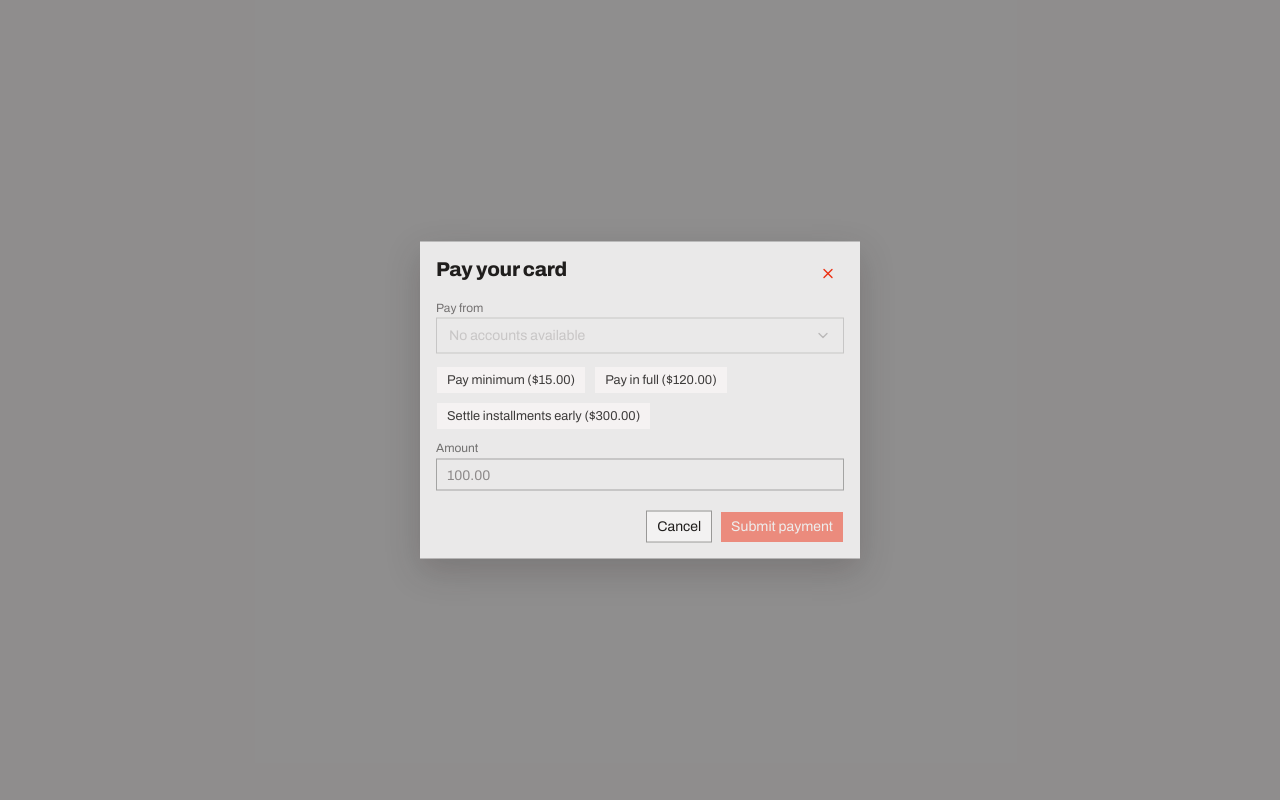
PayDialog › shows quick-select presets and fills the amount field when clicked (credit-card-monthly-batch-statements)
The image size is (1280, 800).
What coordinates should you click on to do the following:
click the button "Pay minimum ($15.00)"
I would click on:
 (511, 380)
Its box is [436, 366, 586, 394].
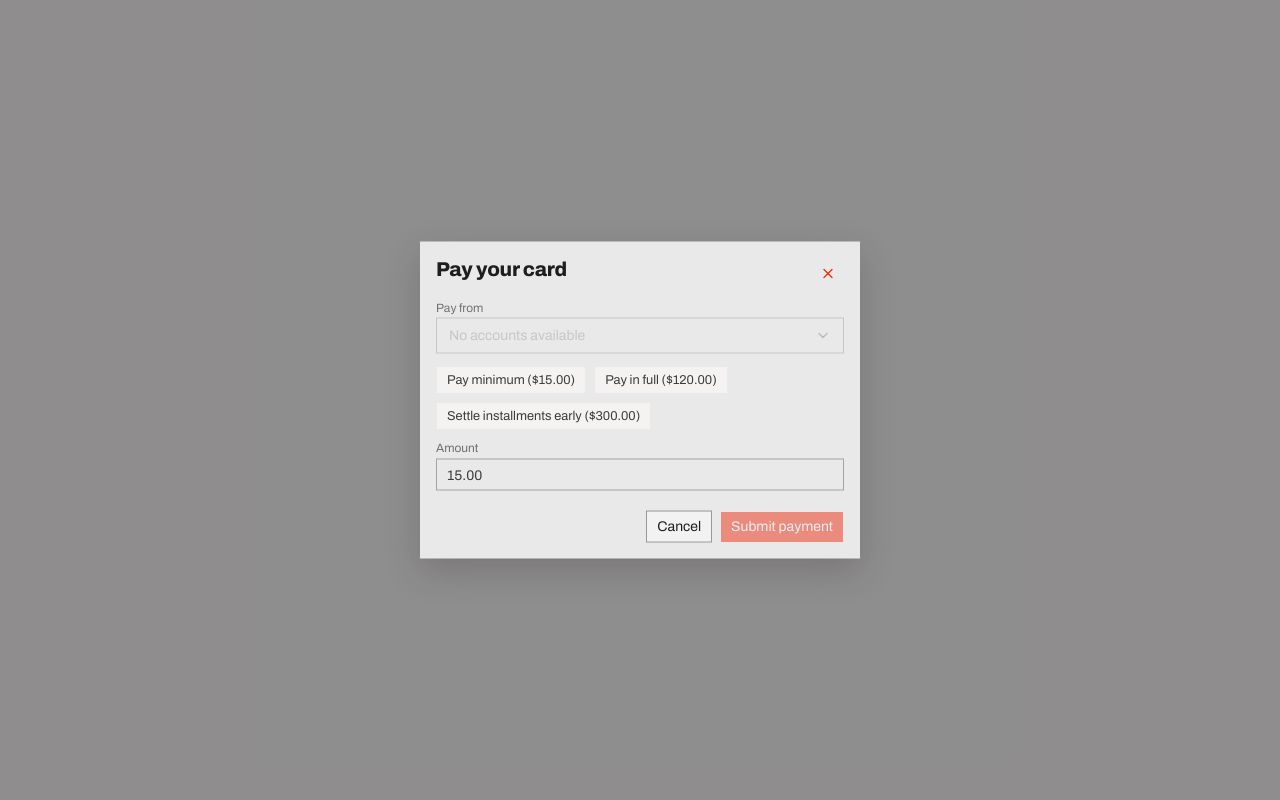
Expected: the field labelled "Amount" holds "15.00", [436, 458, 844, 490]
What coordinates should you click on to do the following:
click the button "Settle installments early ($300.00)"
I would click on:
 (544, 416)
Its box is [436, 402, 651, 430].
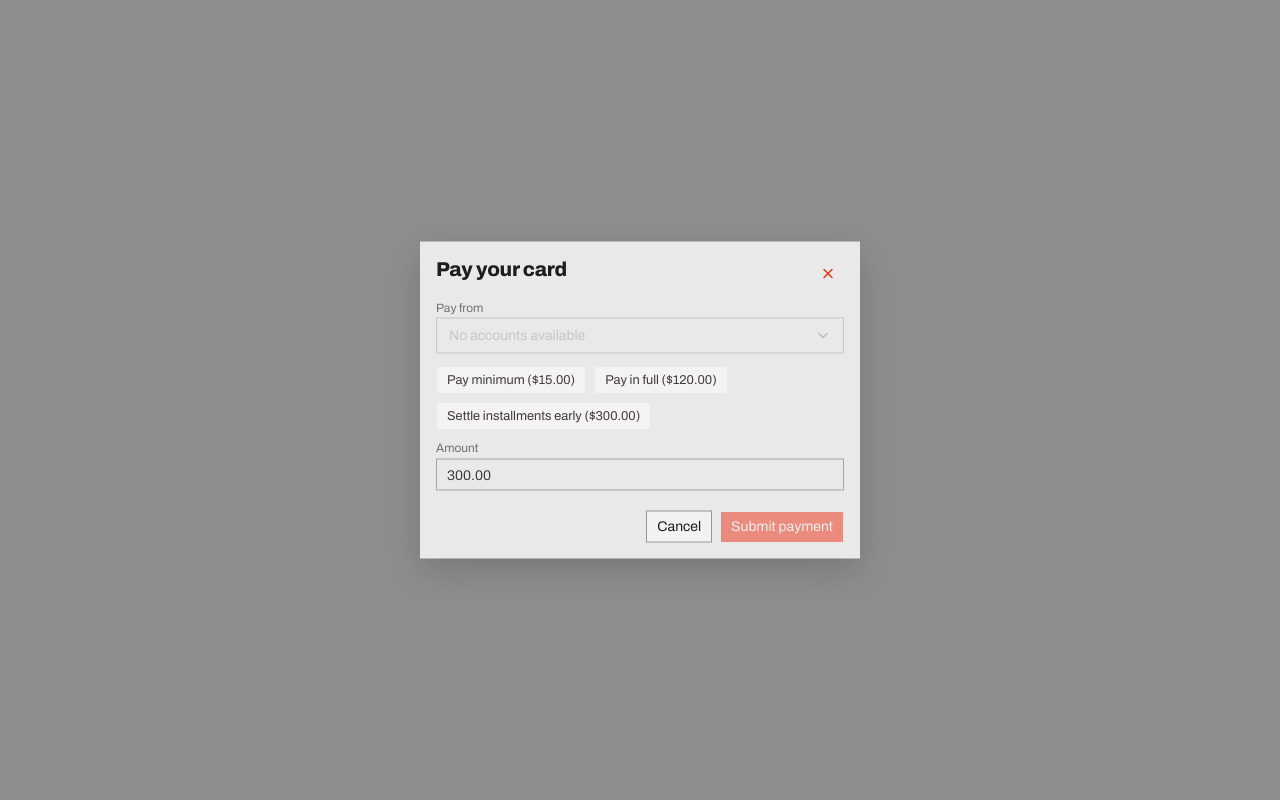
Expected: the field labelled "Amount" holds "300.00", [436, 458, 844, 490]
What coordinates should you click on to do the following:
click the button "Pay in full ($120.00)"
I would click on:
 (661, 380)
Its box is [594, 366, 728, 394].
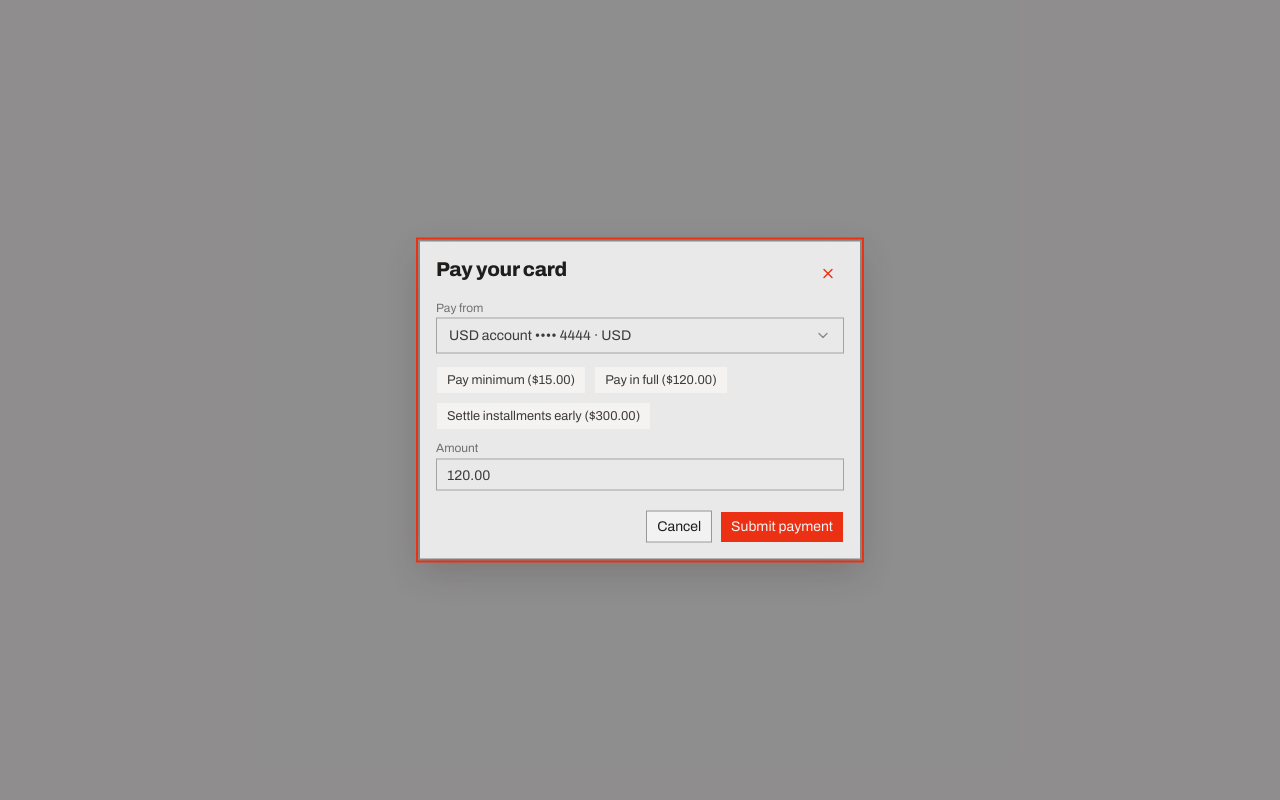
Expected: the field labelled "Amount" holds "120.00", [436, 458, 844, 490]
